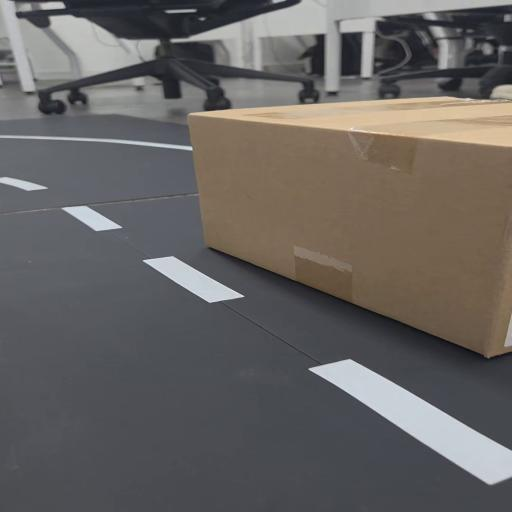Box: (183, 88, 512, 362)
